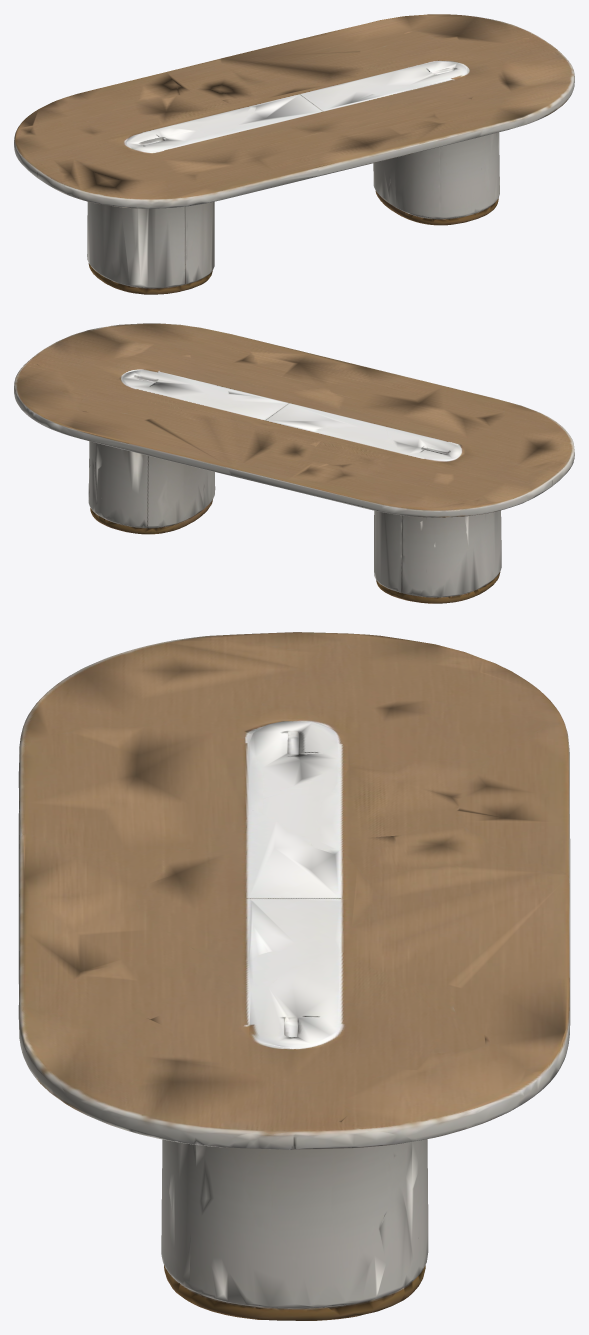
The model's file is wood-table.glb.
3 views of the same model, one above another, from view 1: azimuth 30°, elevation 25°; view 2: azimuth 150°, elevation 25°; view 3: azimuth 270°, elevation 25° (orthographic). The views are drawn at different scales.
Visible parts, largest first — view 1: node_0; view 2: node_0; view 3: node_0.
Part boxes in pixels (bbox=[...]): node_0: bbox=[14, 14, 574, 294]; node_0: bbox=[14, 323, 574, 603]; node_0: bbox=[18, 632, 570, 1320].
Size of the model in its own units: 1.17 by 0.2746 by 0.5428.
1 material, 1 textured.
